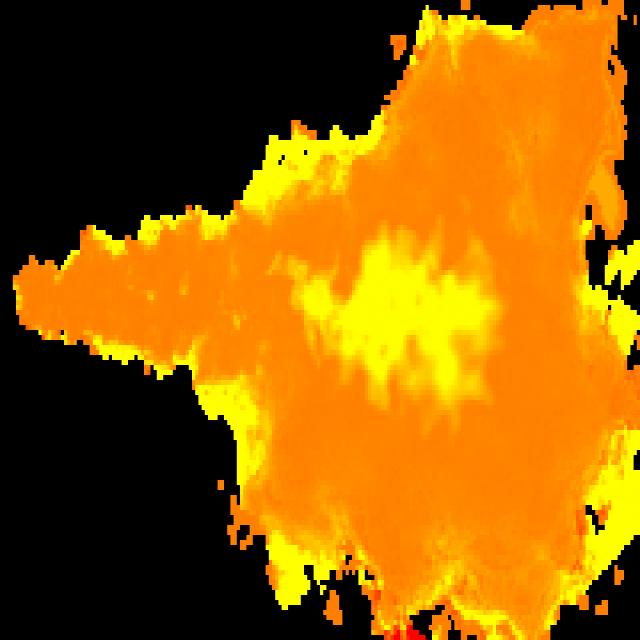fire: (0, 0, 602, 605)
